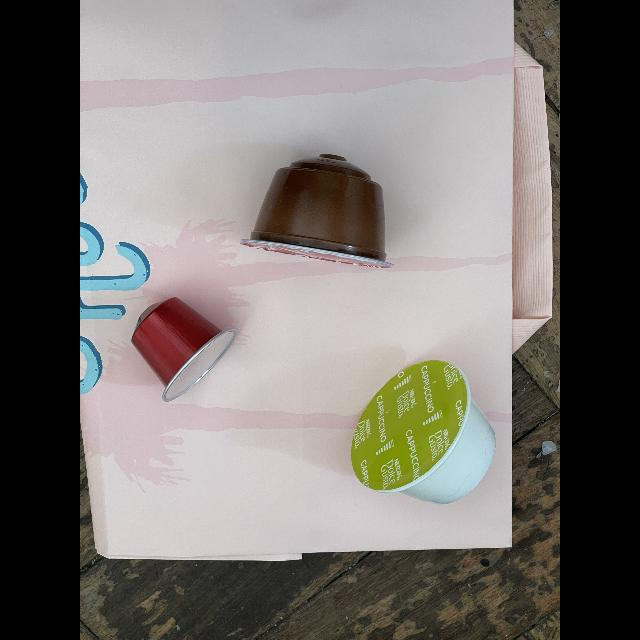intact_capsule: (339, 348, 511, 512), (235, 145, 407, 295), (124, 291, 243, 405)
